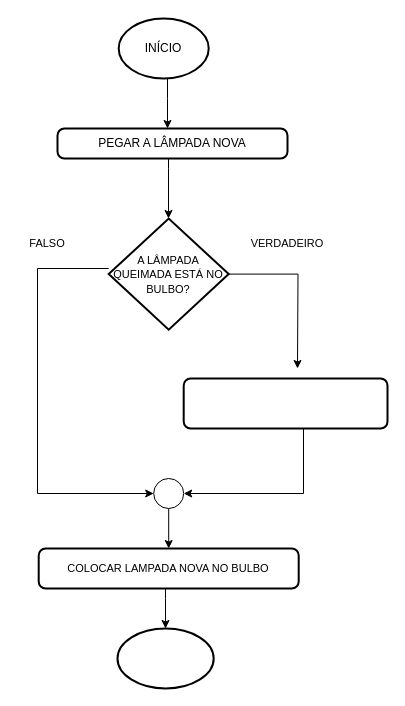
The diagram is 405 pixels wide and 706 high, and some of its shapes have lost their labels. Each missing label, with the centre of its shape:
FIM: the point at 165,658
RETIRAR A LAMPÂDA: the point at 285,403
